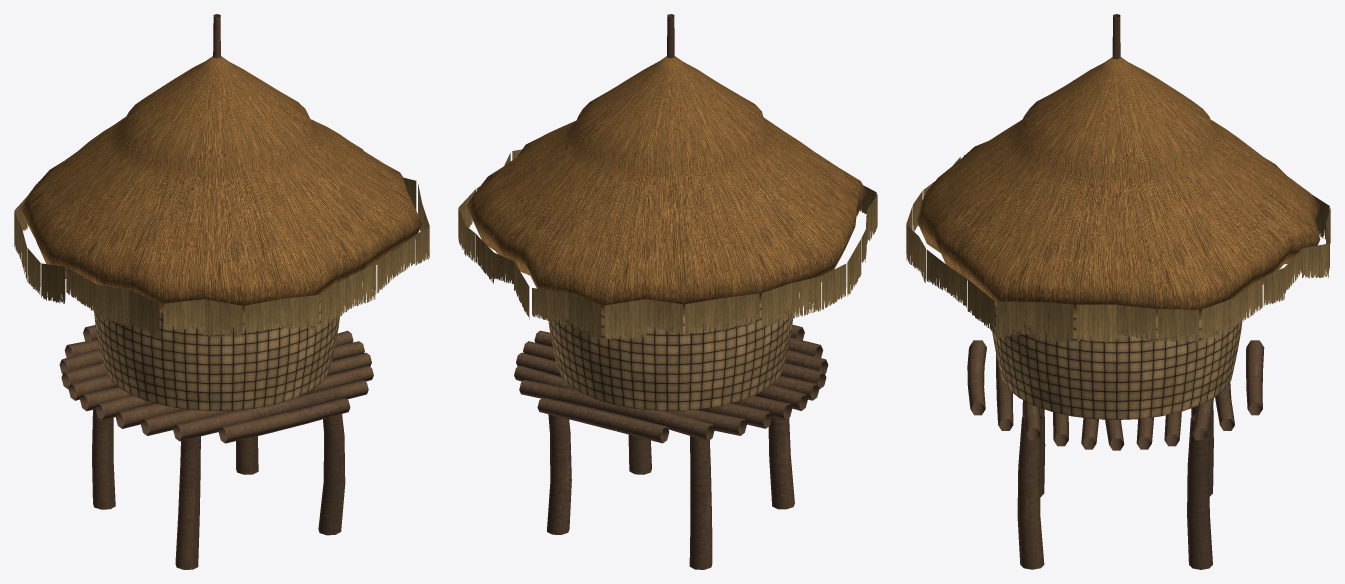
Rendered from grenier.glb.
The picture shows the model from 3 angles, left to right: view 1: azimuth 30°, elevation 25°; view 2: azimuth 150°, elevation 25°; view 3: azimuth 270°, elevation 25°; orthographic projection. The views are drawn at different scales.
Parts seen in each view (by area): view 1: Grenier_Toit, Grenier_Corps, Grenier_Frange, Grenier_Pilotis, Grenier_Rondin.001, Grenier_Pilotis.001, Grenier_Rondin, Grenier_Pilotis.002, Grenier_Rondin.002, Grenier_Rondin.003, Grenier_Rondin.004, Grenier_Rondin.005 (+4 smaller); view 2: Grenier_Toit, Grenier_Corps, Grenier_Frange, Grenier_Pilotis.002, Grenier_Rondin.009, Grenier_Pilotis.003, Grenier_Rondin.010, Grenier_Pilotis, Grenier_Rondin.008, Grenier_Rondin.007, Grenier_Rondin.006, Grenier_Rondin.005 (+4 smaller); view 3: Grenier_Toit, Grenier_Corps, Grenier_Frange, Grenier_Pilotis.003, Grenier_Pilotis.001, Grenier_Rondin, Grenier_Rondin.010, Grenier_Rondin.001, Grenier_Rondin.009, Grenier_Rondin.008, Grenier_Rondin.002.
Boxes of the visible parts, bbox=[...] form: Grenier_Toit: bbox=[21, 56, 422, 316]; Grenier_Corps: bbox=[94, 290, 339, 410]; Grenier_Frange: bbox=[14, 177, 429, 337]; Grenier_Pilotis: bbox=[175, 436, 200, 569]; Grenier_Rondin.001: bbox=[173, 380, 368, 441]; Grenier_Pilotis.001: bbox=[318, 414, 345, 535]; Grenier_Rondin: bbox=[218, 397, 350, 443]; Grenier_Pilotis.002: bbox=[92, 409, 115, 509]; Grenier_Rondin.002: bbox=[141, 365, 373, 435]; Grenier_Rondin.003: bbox=[115, 352, 371, 428]; Grenier_Rondin.004: bbox=[95, 341, 364, 420]; Grenier_Rondin.005: bbox=[80, 330, 353, 411]; Grenier_Toit: bbox=[467, 56, 866, 315]; Grenier_Corps: bbox=[548, 297, 793, 410]; Grenier_Frange: bbox=[458, 149, 877, 340]; Grenier_Pilotis.002: bbox=[689, 436, 712, 569]; Grenier_Rondin.009: bbox=[519, 380, 714, 441]; Grenier_Pilotis.003: bbox=[547, 414, 571, 534]; Grenier_Rondin.010: bbox=[537, 397, 669, 443]; Grenier_Pilotis: bbox=[768, 417, 794, 509]; Grenier_Rondin.008: bbox=[514, 365, 746, 435]; Grenier_Rondin.007: bbox=[516, 352, 772, 428]; Grenier_Rondin.006: bbox=[523, 341, 792, 420]; Grenier_Rondin.005: bbox=[534, 330, 807, 410]; Grenier_Toit: bbox=[917, 57, 1320, 321]; Grenier_Corps: bbox=[992, 303, 1242, 419]; Grenier_Frange: bbox=[906, 155, 1330, 343]; Grenier_Pilotis.003: bbox=[1187, 415, 1212, 569]; Grenier_Pilotis.001: bbox=[1017, 415, 1044, 569]; Grenier_Rondin: bbox=[967, 340, 986, 415]; Grenier_Rondin.010: bbox=[1246, 340, 1264, 415]; Grenier_Rondin.001: bbox=[996, 354, 1013, 430]; Grenier_Rondin.009: bbox=[1215, 382, 1234, 430]; Grenier_Rondin.008: bbox=[1192, 398, 1213, 440]; Grenier_Rondin.002: bbox=[1023, 400, 1040, 440].
Bounding box in the file's own units: 3.49 × 4.7 × 3.52.
Materials: 4 (4 with a texture image).
